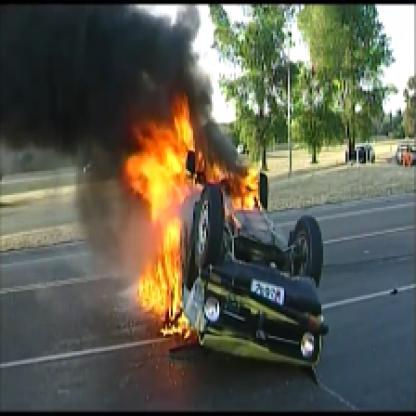Fire: (99, 98, 258, 334)
